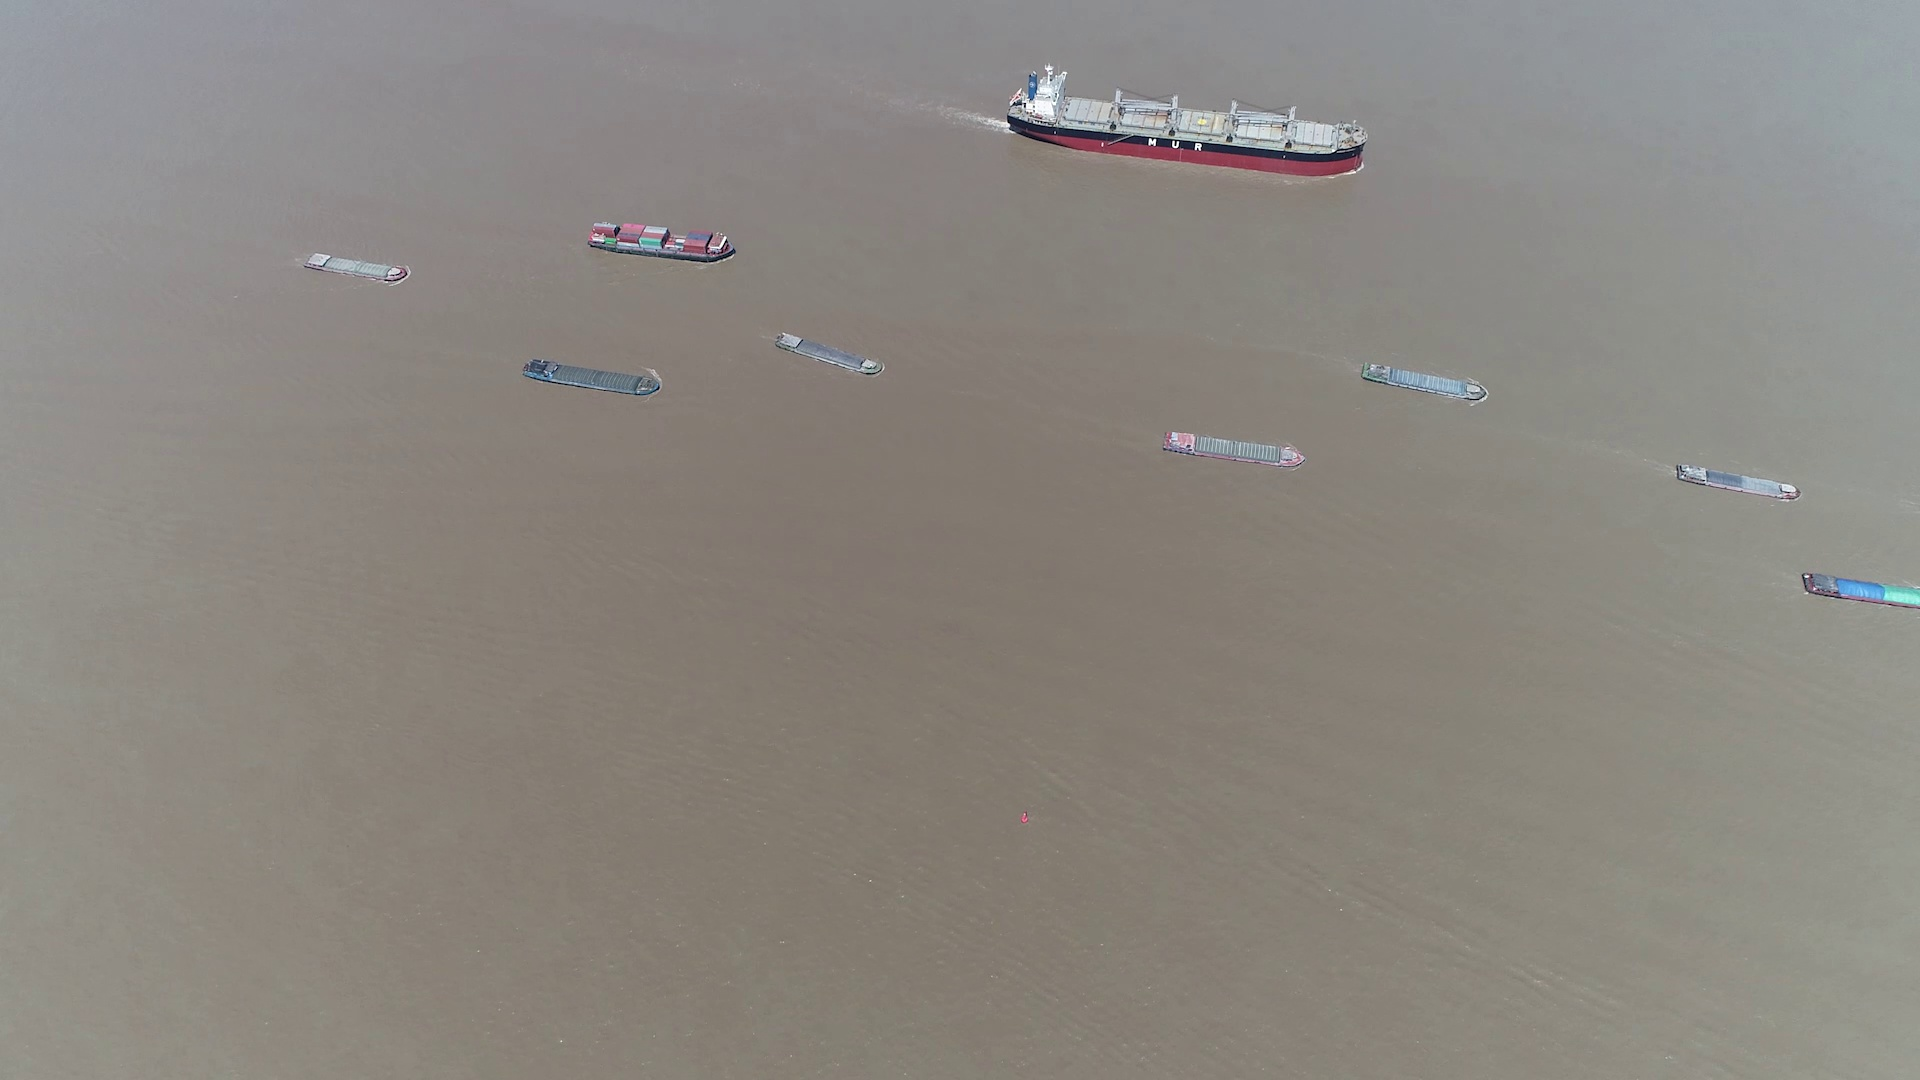ship: (1009, 67, 1366, 173), (585, 222, 737, 262), (524, 359, 663, 400), (1361, 361, 1490, 404), (1163, 431, 1304, 469), (1673, 462, 1801, 501), (775, 335, 884, 378), (1803, 570, 1920, 609), (302, 251, 409, 281)
